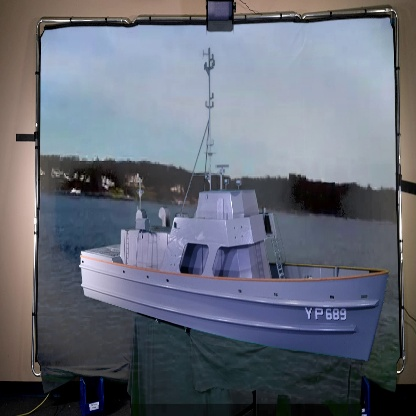YP689: (77, 37, 389, 365)
